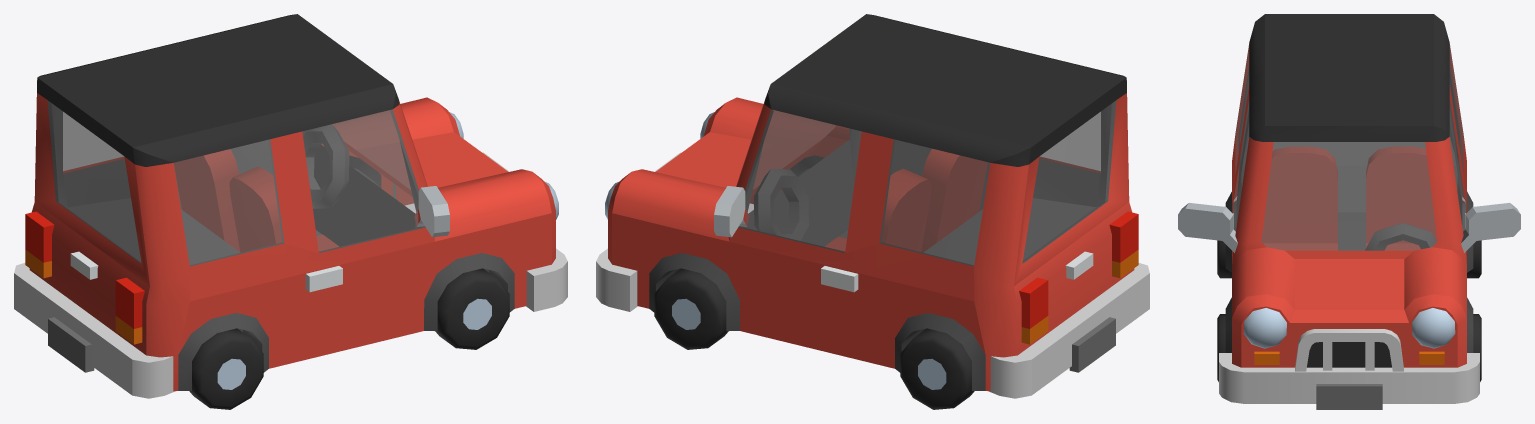
Rendered from car01_s02.FBX.
3 views of the same model, side by side, from view 1: azimuth 30°, elevation 25°; view 2: azimuth 150°, elevation 25°; view 3: azimuth 270°, elevation 25° (orthographic). The views are drawn at different scales.
Visible parts, largest first — view 1: car01_s02; view 2: car01_s02; view 3: car01_s02.
Part boxes in pixels (bbox=[...]): car01_s02: bbox=[14, 14, 567, 409]; car01_s02: bbox=[596, 14, 1149, 409]; car01_s02: bbox=[1178, 14, 1520, 409].
Bounding box in the file's own units: 271 × 205 × 152.
2 materials, 1 textured.
